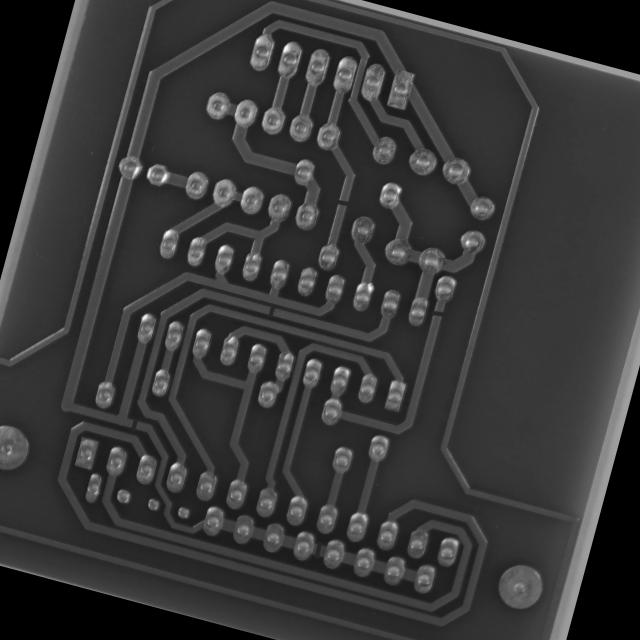open_circuit: (306, 536, 328, 563), (425, 304, 448, 322), (330, 191, 350, 211), (260, 300, 279, 319), (125, 415, 142, 433)
